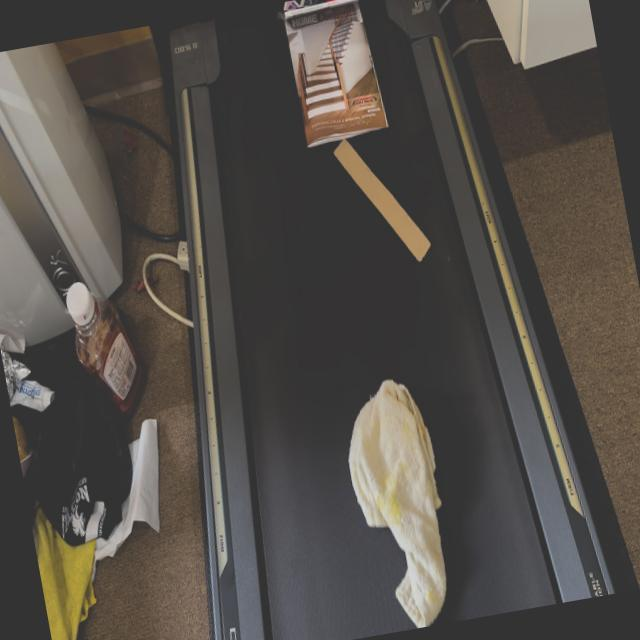Recycle: (328, 124, 442, 274), (277, 0, 395, 142)
Trash: (338, 374, 480, 634)
